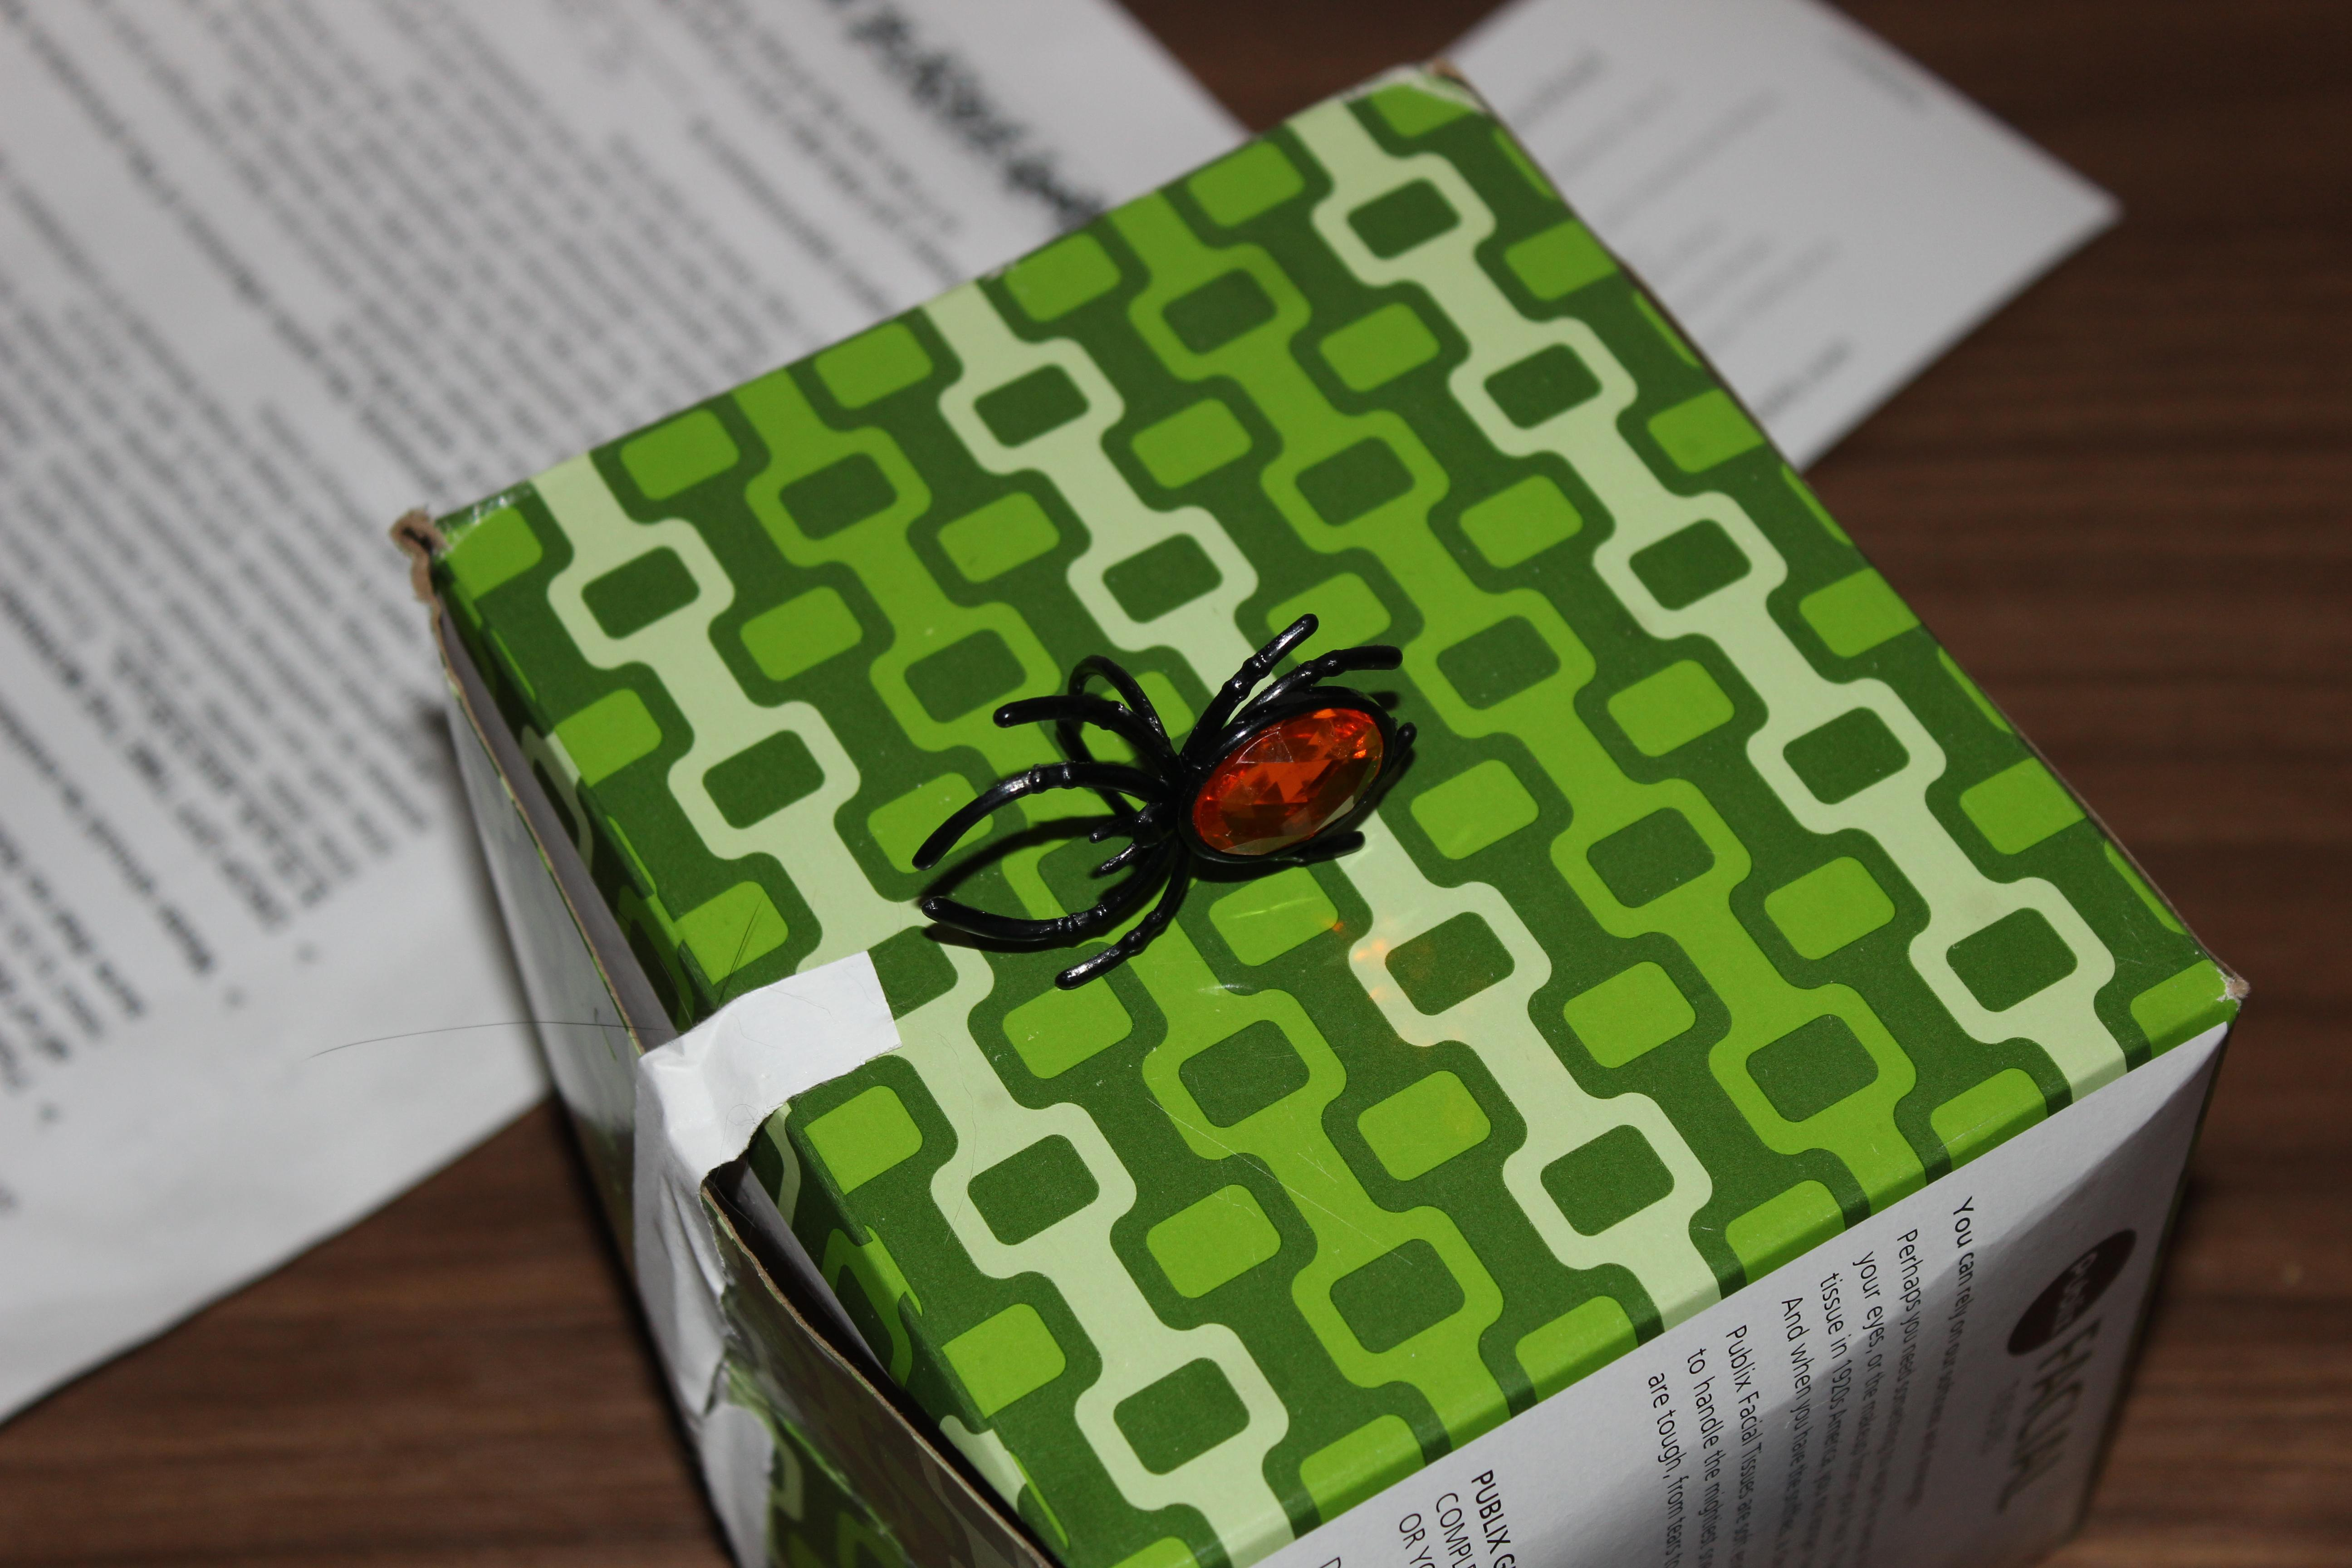spiderRing: (894, 583, 1445, 1020)
